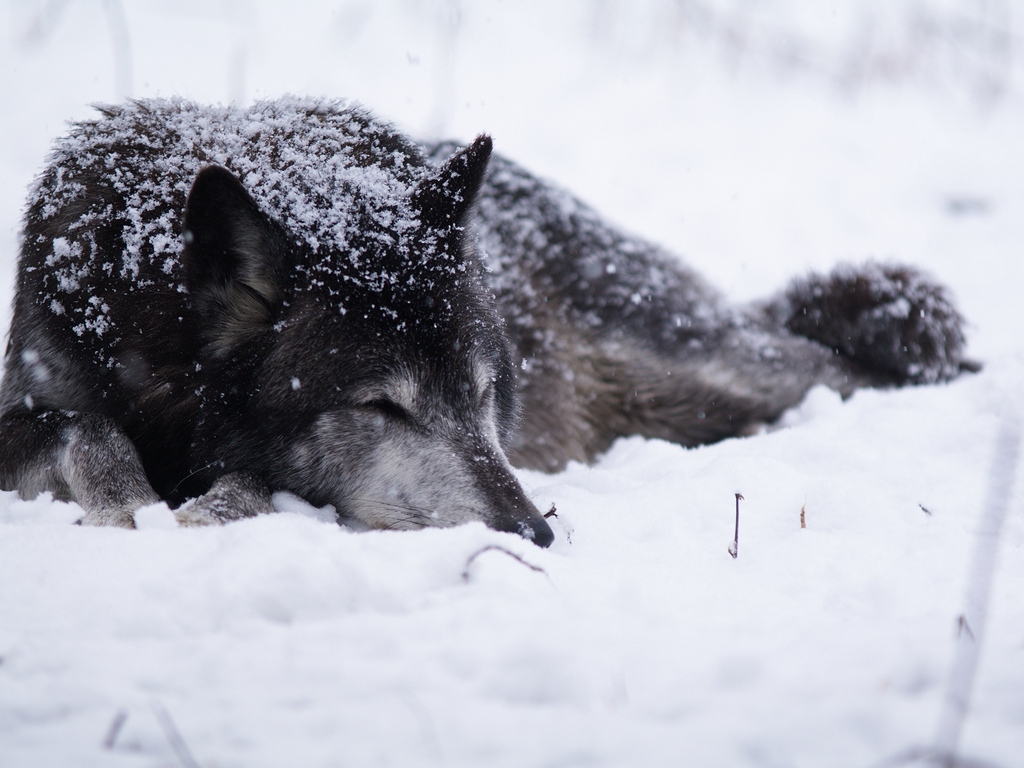wolf: (1, 68, 979, 574)
